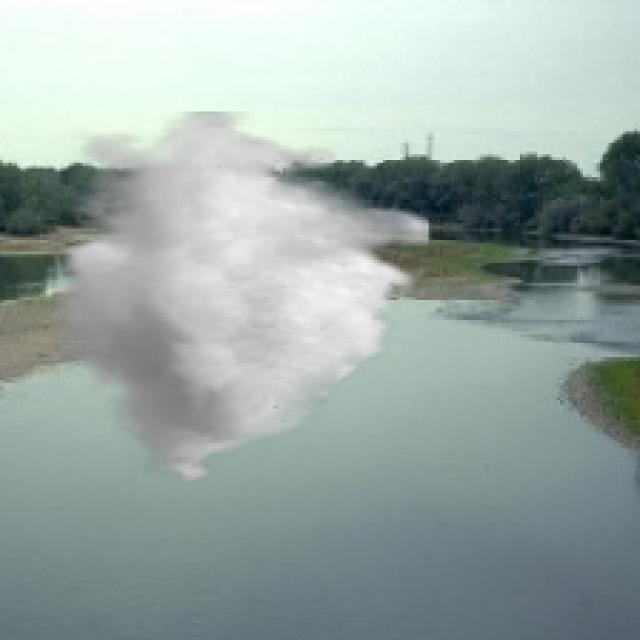Smoke: (46, 111, 432, 492)
